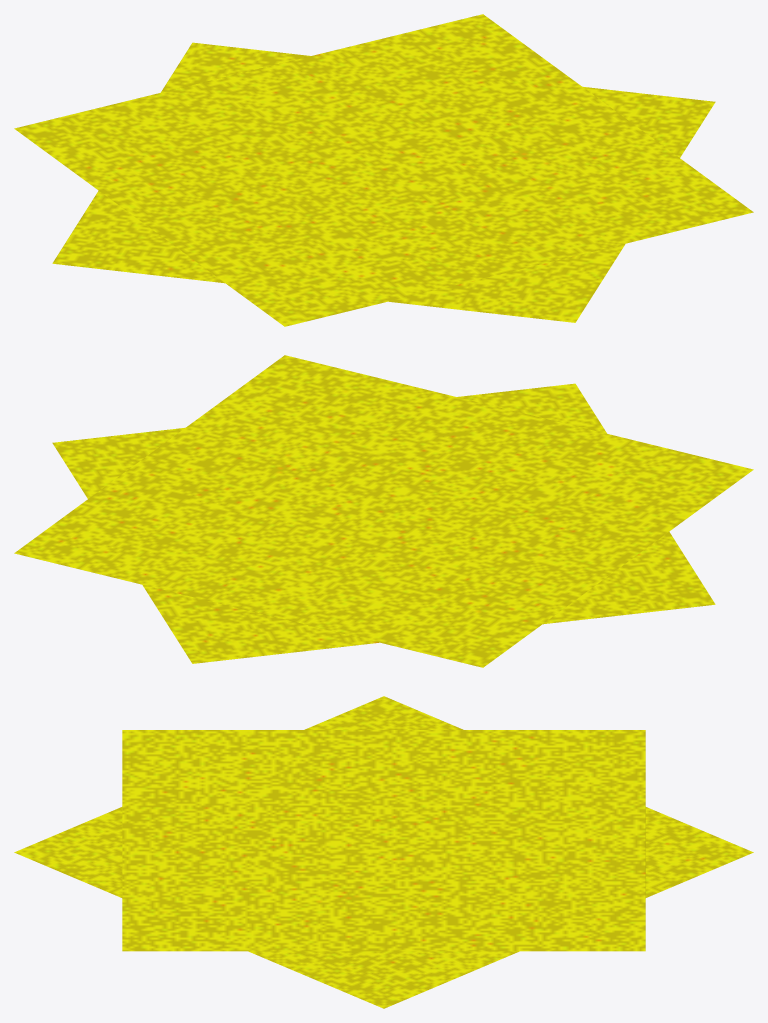
File: boterbloem.fbx
3 renders of one model, top to bottom at view 1: azimuth 30°, elevation 25°; view 2: azimuth 150°, elevation 25°; view 3: azimuth 270°, elevation 25°, orthographic. The views are drawn at different scales.
Visible parts, largest first — view 1: boterbloem; view 2: boterbloem; view 3: boterbloem.
Part boxes in pixels (x1,y1,x2,y2): boterbloem: (14, 14, 753, 326); boterbloem: (14, 355, 753, 667); boterbloem: (14, 696, 753, 1008).
Size of the model in its own units: 707 by 12.5 by 707.
Materials: 1 (1 with a texture image).
